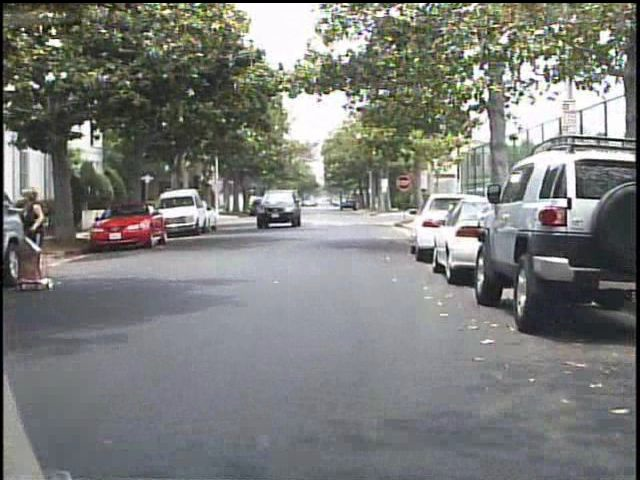person: (20, 185, 62, 294)
